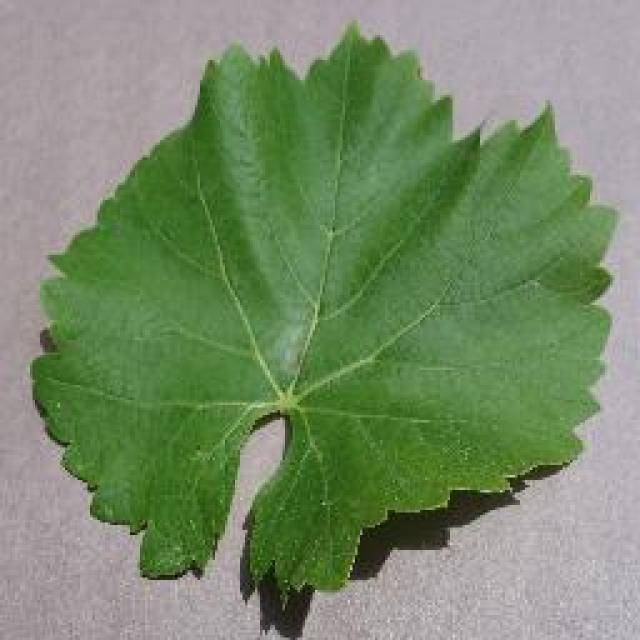Grape___healthy: (28, 11, 625, 616)
